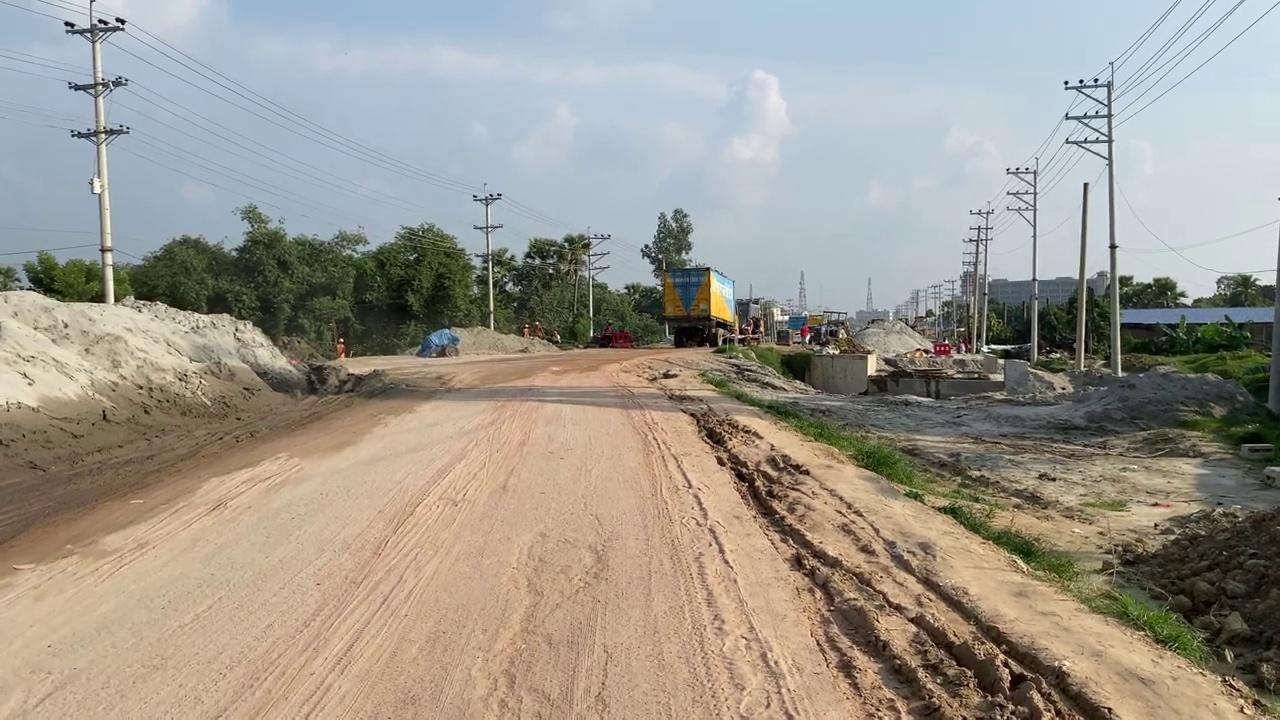Obstacle: (869, 350, 1003, 399)
Pole: (62, 2, 130, 304), (1074, 181, 1089, 370)
Rickshaw: (636, 351, 1269, 718)
Traffic-sign: (640, 206, 693, 281)
Tree: (658, 256, 737, 348), (806, 309, 849, 344), (522, 320, 561, 345)
